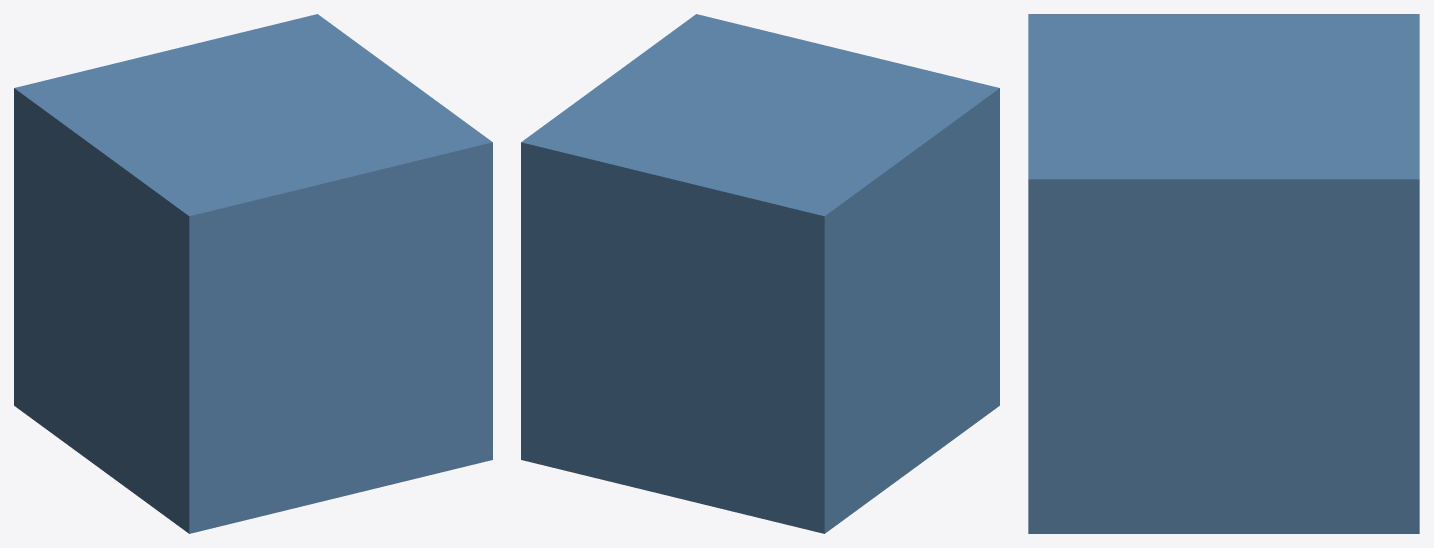
File: Spawn_Full.glb
3 renders of one model, left to right at view 1: azimuth 30°, elevation 25°; view 2: azimuth 150°, elevation 25°; view 3: azimuth 270°, elevation 25°, orthographic. The views are drawn at different scales.
Visible parts, largest first — view 1: Spawn_Full_body; view 2: Spawn_Full_body; view 3: Spawn_Full_body.
Boxes of the visible parts, x1,y1,x2,y2 form: Spawn_Full_body: [14, 14, 492, 533]; Spawn_Full_body: [521, 14, 999, 533]; Spawn_Full_body: [1028, 14, 1419, 533].
Bounding box in the file's own units: 1 × 1 × 1.
